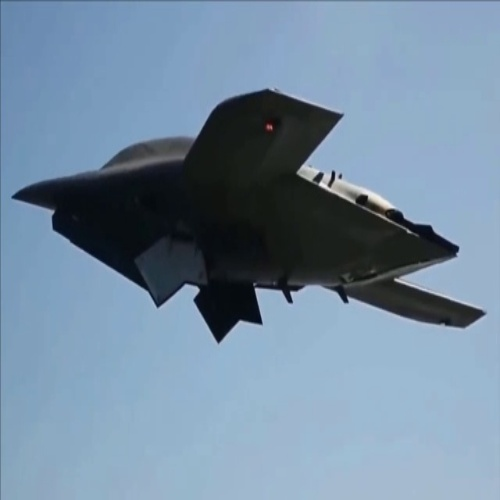uav: (10, 91, 486, 349)
